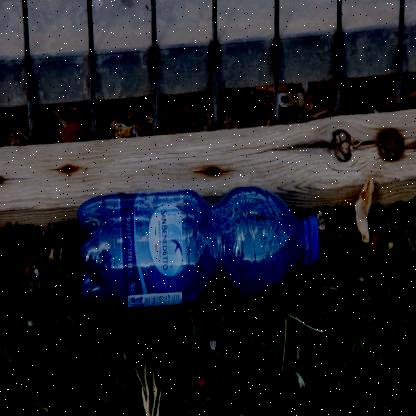Plastic Bottle: (78, 187, 319, 308)
